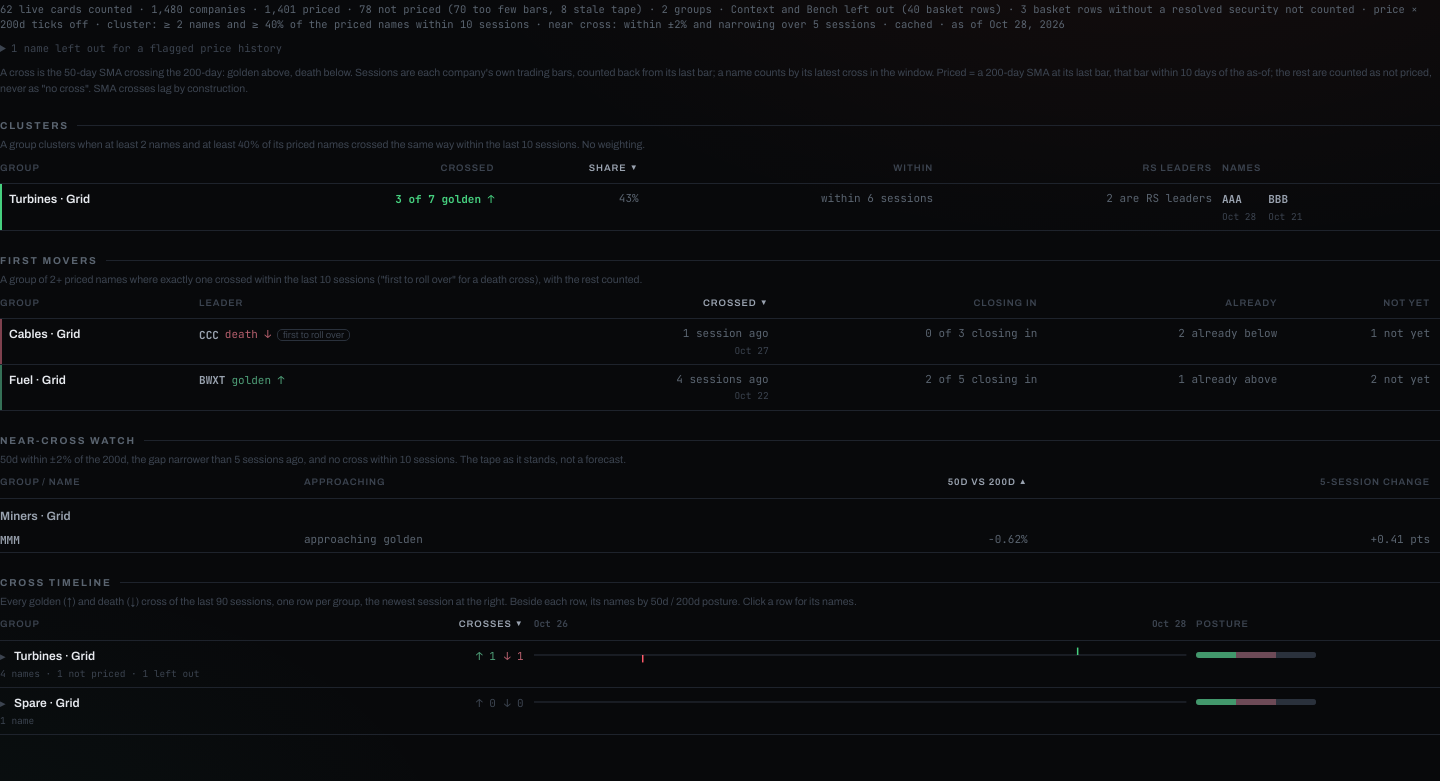
Test: Cross Radar — a flagged price history › an expanded group lists the flagged name grayed with its reason, never gone
Click the row named "golden cross on Oct 28 (on the as-of session)death cross on" at {"x": 720, "y": 664}, box [0, 640, 1439, 687]
(page scrolled)
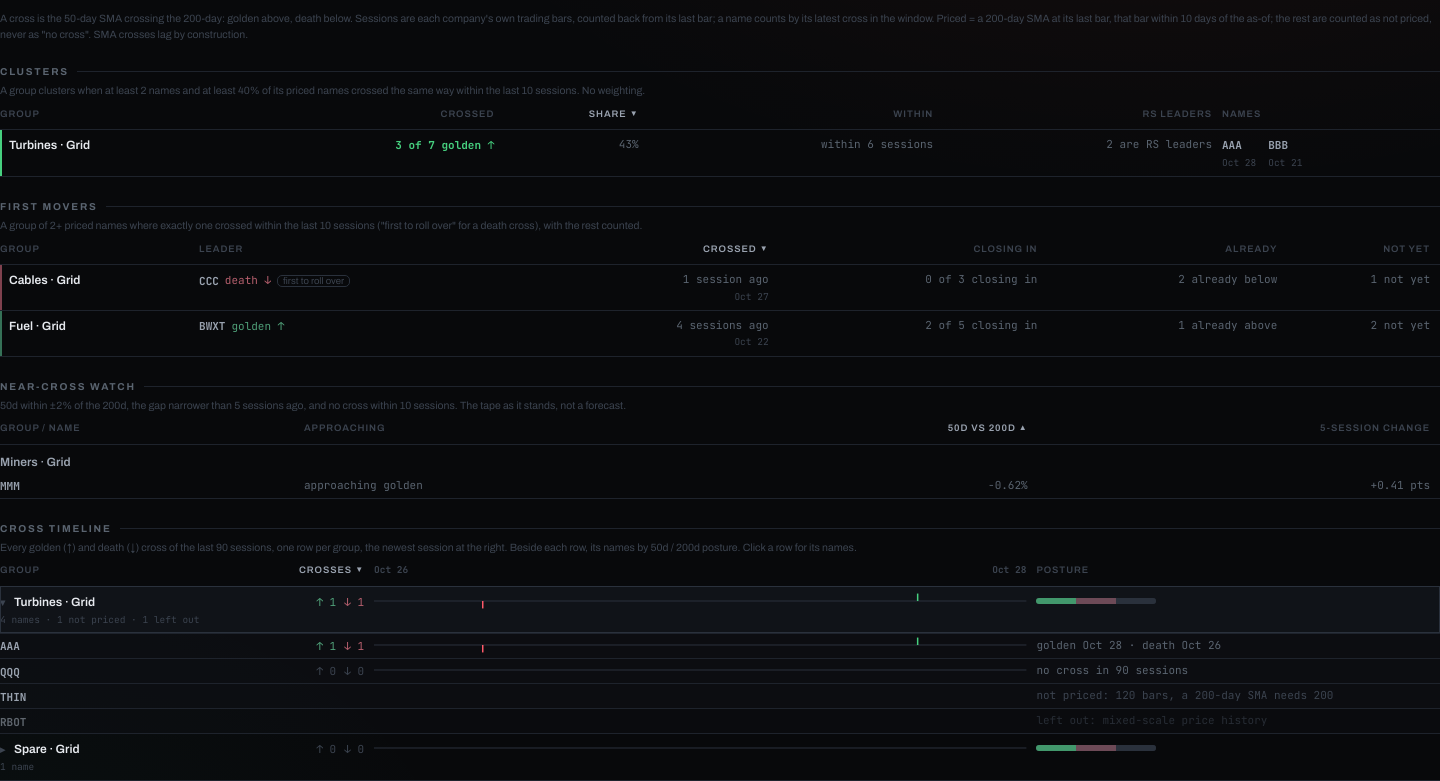
Expected: the text "left out: mixed-scale price history" is shown, [1036, 709, 1439, 734]
